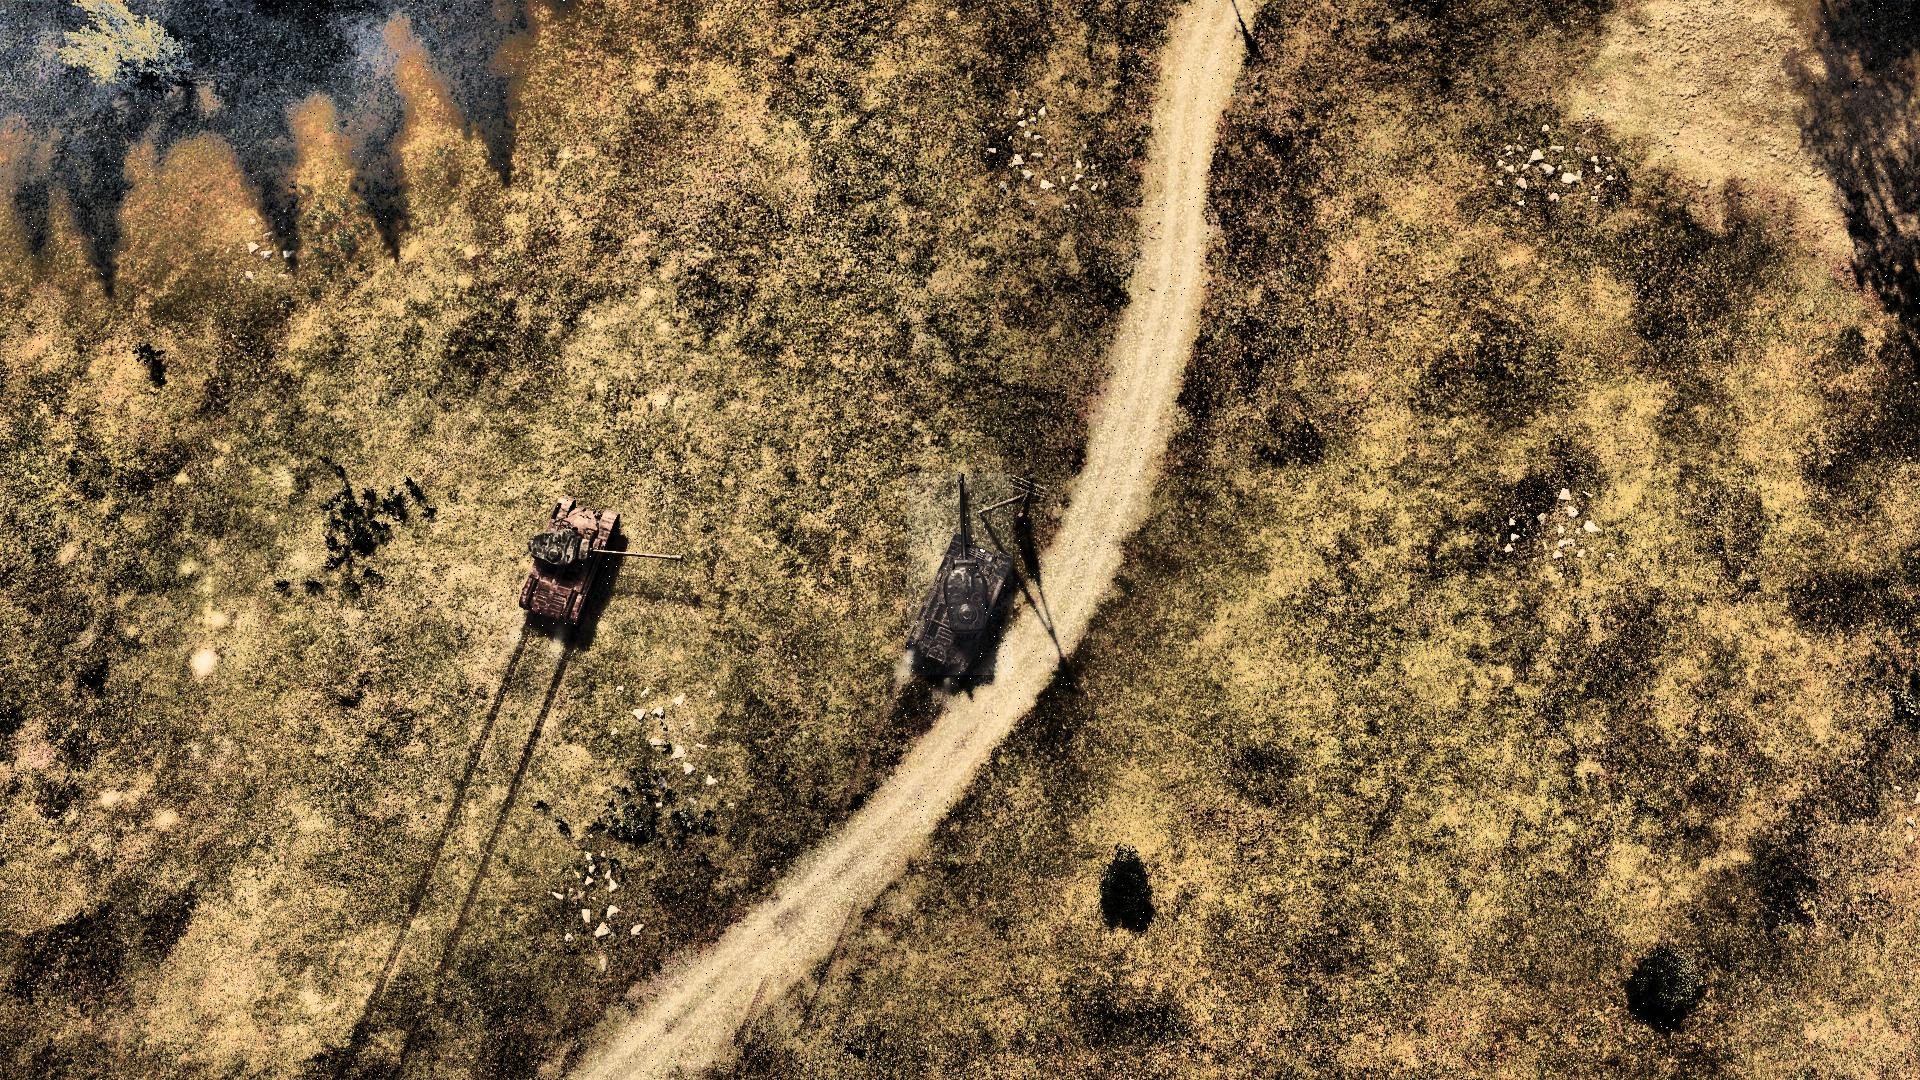military-vehicle: (520, 497, 687, 632), (907, 473, 1013, 675)
